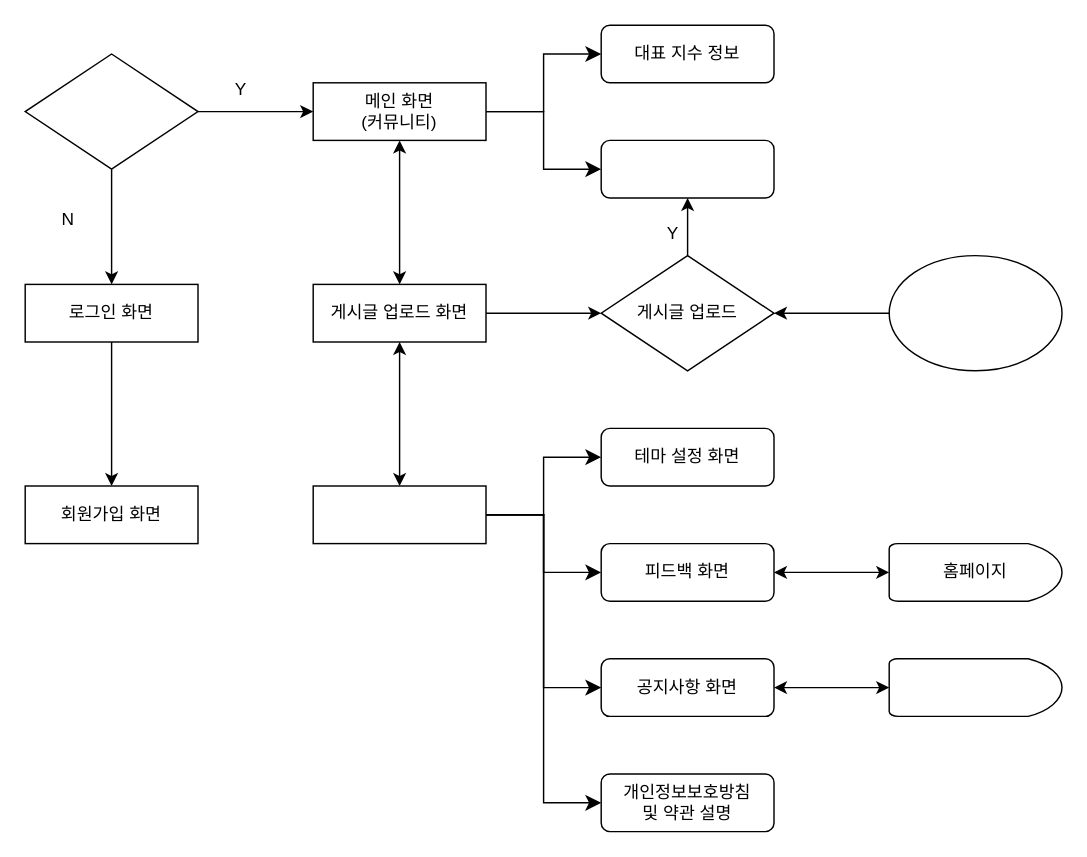
This 1087x857 diagram has some shape labels left out. The centre of each missing label's shape, as x and y in pixels:
Firebase Sever: the point at 975,686
로그인 여부 체크: the point at 111,111
사용자 게시글: the point at 687,168
인용할 주식 정보: the point at 975,312
프로필 화면: the point at 399,514
